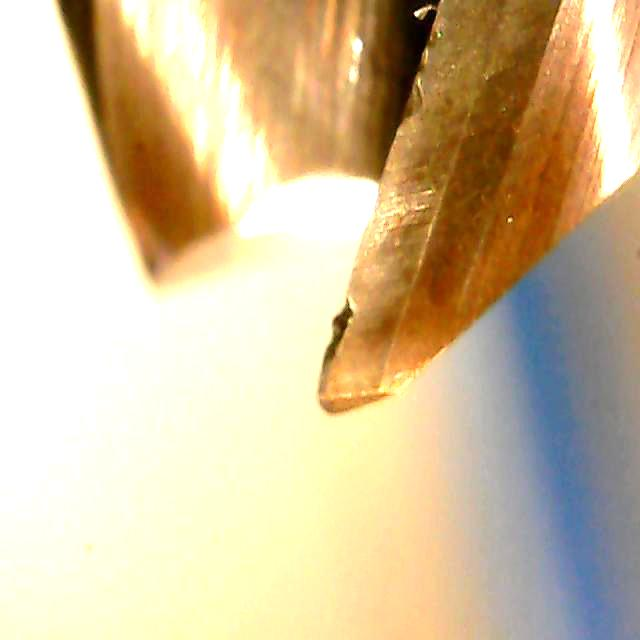Tool-wear-class-1: (280, 208, 474, 421)
